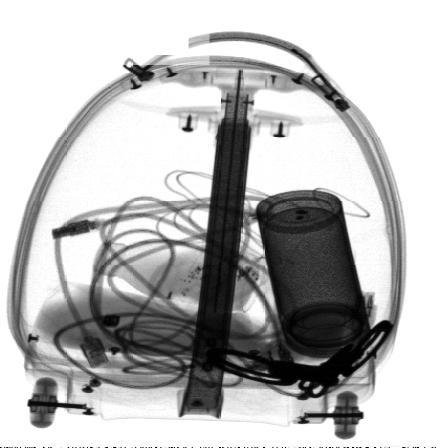HandCuffs: (205, 317, 396, 403)
